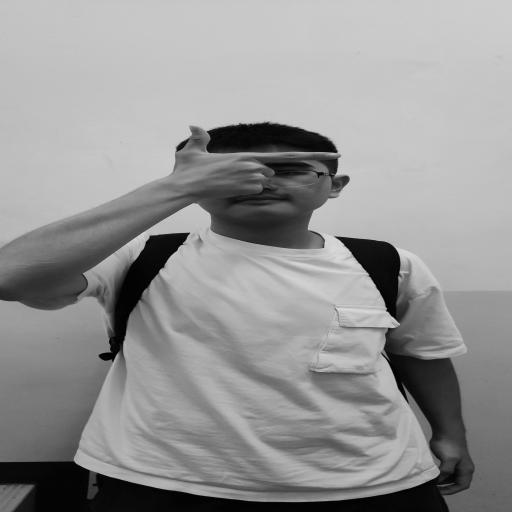next: (143, 122, 357, 209)
